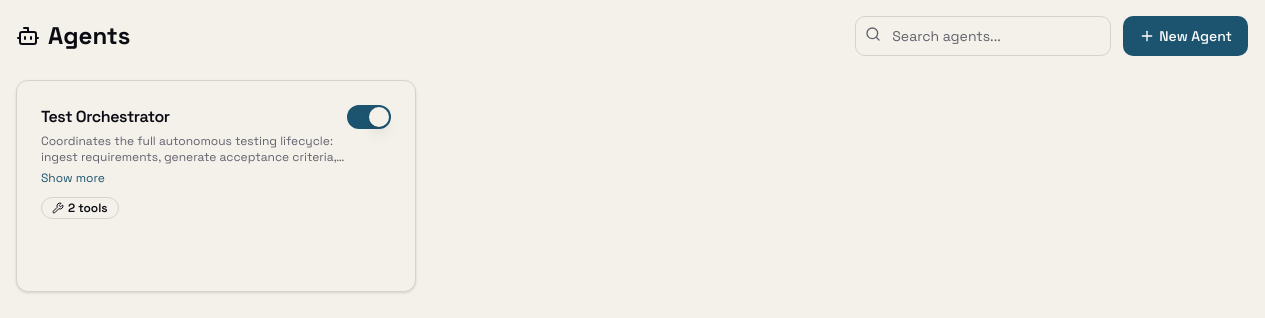
Scenario: AgentsPage › expands description on 'Show more' click
The image size is (1265, 318).
Click the button "Show more". click: click(73, 178)
box: x1=41 y1=170 x2=105 y2=186
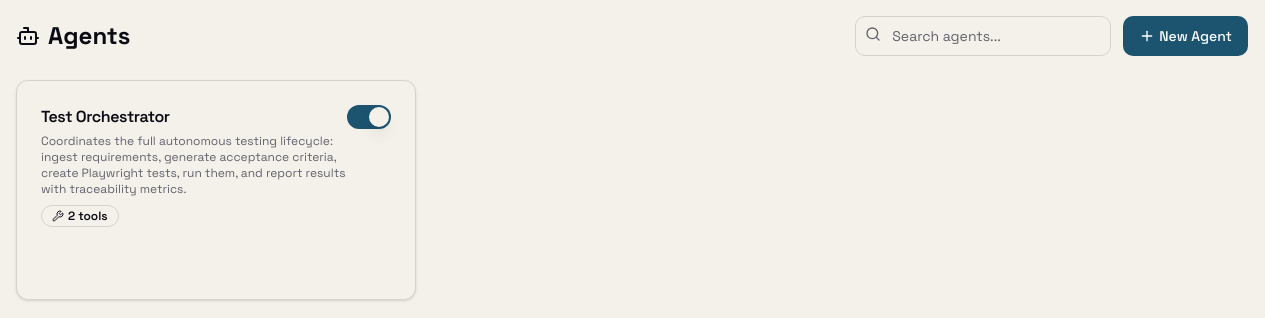
Expected: the text "Coordinates the full autonomous testing lifecycle: ingest requirements, generate acceptance criteria, create Playwright " is shown, x1=41 y1=133 x2=346 y2=197
Expected: the button "Show more" is gone
